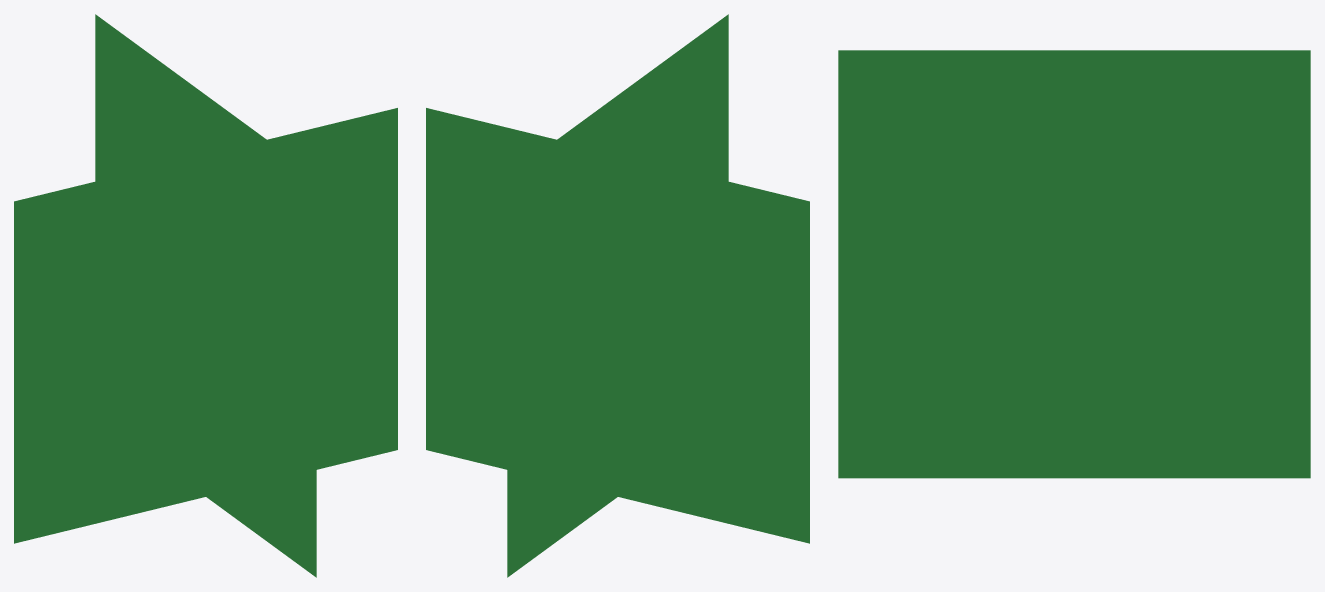
File: Grass03.fbx
3 views of the same model, side by side, from view 1: azimuth 30°, elevation 25°; view 2: azimuth 150°, elevation 25°; view 3: azimuth 270°, elevation 25° (orthographic). The views are drawn at different scales.
Parts seen in each view (by area): view 1: Grass02; view 2: Grass02; view 3: Grass02.
Part boxes in pixels (x1=…): Grass02: x1=14, y1=14, x2=397, y2=577; Grass02: x1=426, y1=14, x2=809, y2=577; Grass02: x1=838, y1=50, x2=1310, y2=478.
Size of the model in its own units: 84.05 by 84.05 by 84.05.
